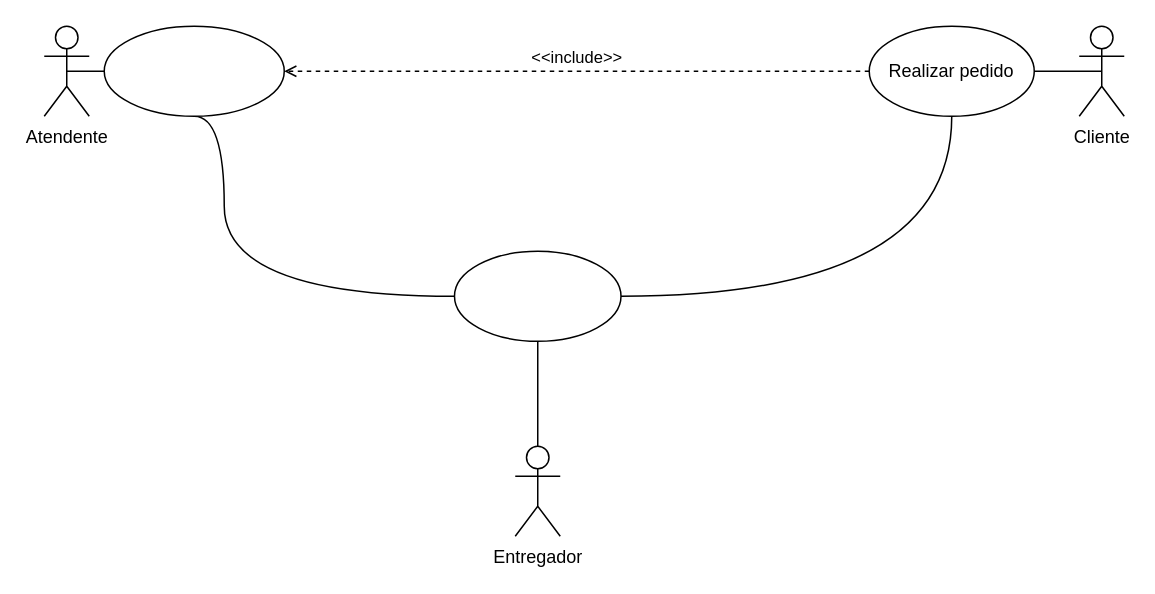
This 1155x594 diagram has some shape labels left out. Each missing label, with the box of its shape:
Confirmar pedido: (103, 25, 284, 116)
Entregar pedido: (453, 250, 621, 341)
